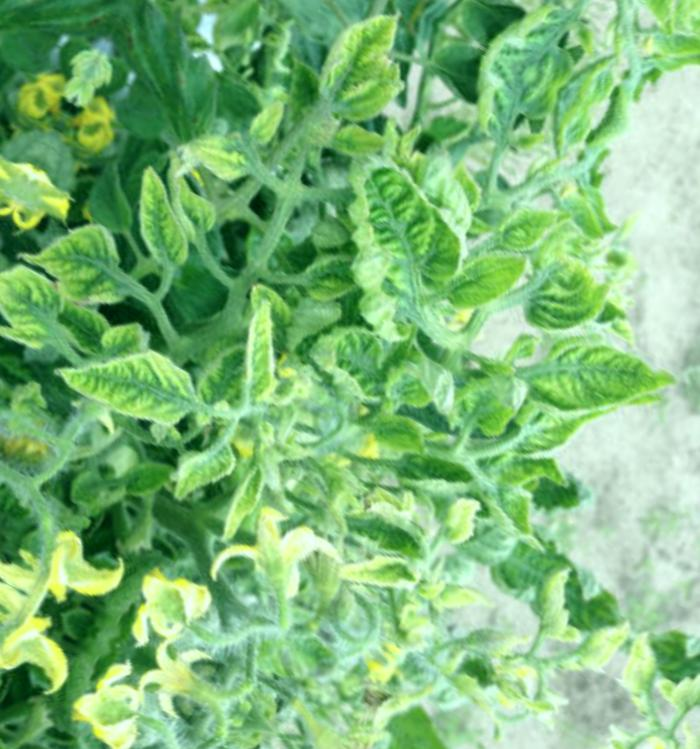Tomato leaf yellow virus: (270, 125, 501, 363), (521, 293, 695, 458), (45, 304, 221, 465), (277, 0, 438, 146), (284, 288, 417, 429), (414, 202, 546, 343), (99, 155, 223, 281), (21, 203, 146, 324), (210, 495, 324, 627), (0, 242, 93, 398)
